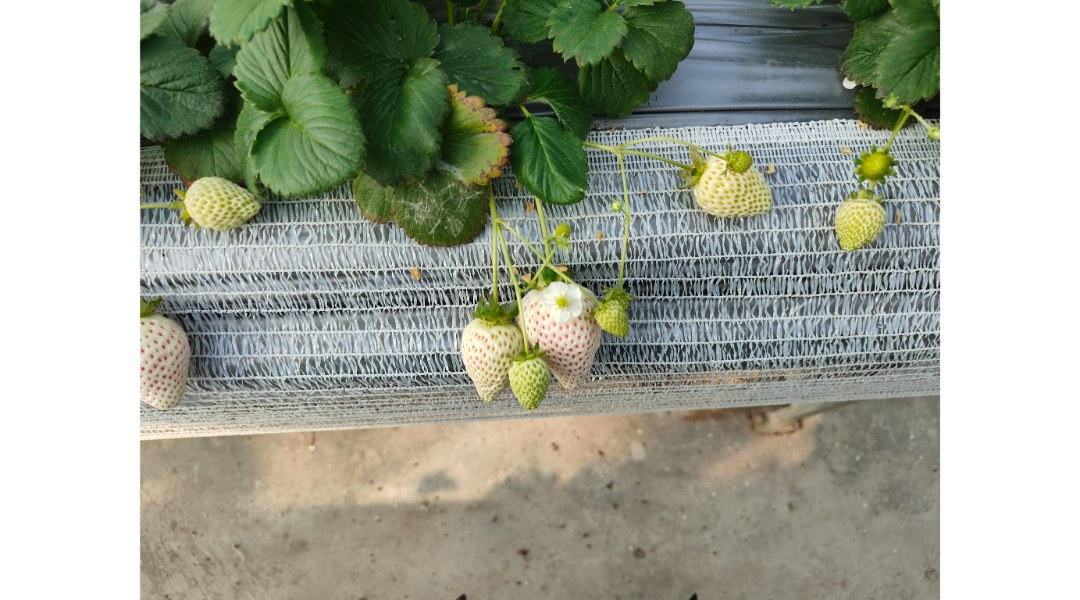berry: (107, 291, 199, 439), (670, 136, 785, 234), (519, 274, 608, 391), (464, 295, 525, 409), (176, 173, 268, 237), (497, 342, 561, 421), (820, 198, 901, 256), (851, 137, 899, 192), (596, 287, 637, 343)
flower: (613, 153, 634, 286), (543, 281, 588, 322)
strain: (477, 195, 501, 300), (634, 145, 694, 171), (507, 222, 540, 259)
